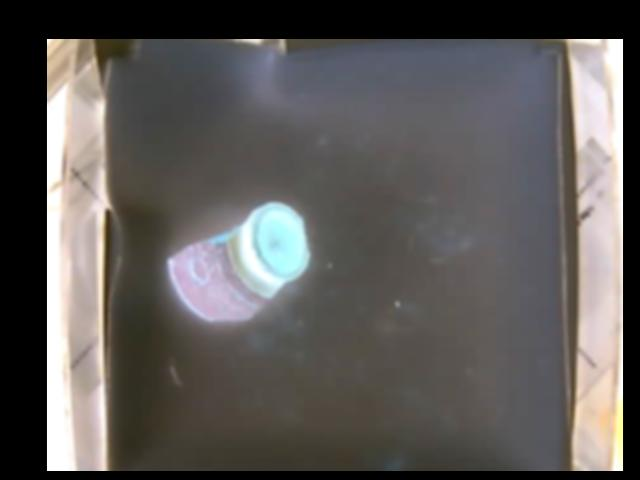China: (167, 202, 306, 318)
